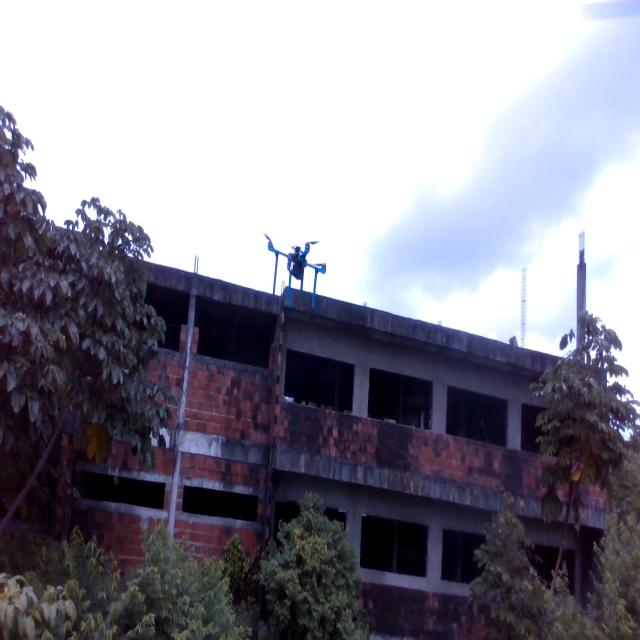-uav-: (256, 213, 333, 310)
